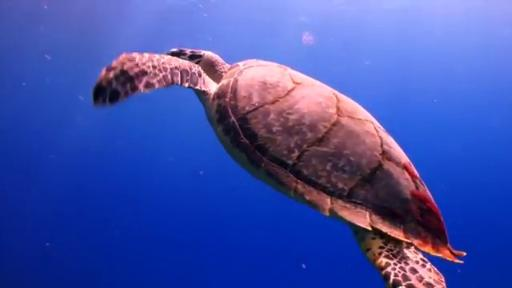Fish: (93, 49, 465, 287)
